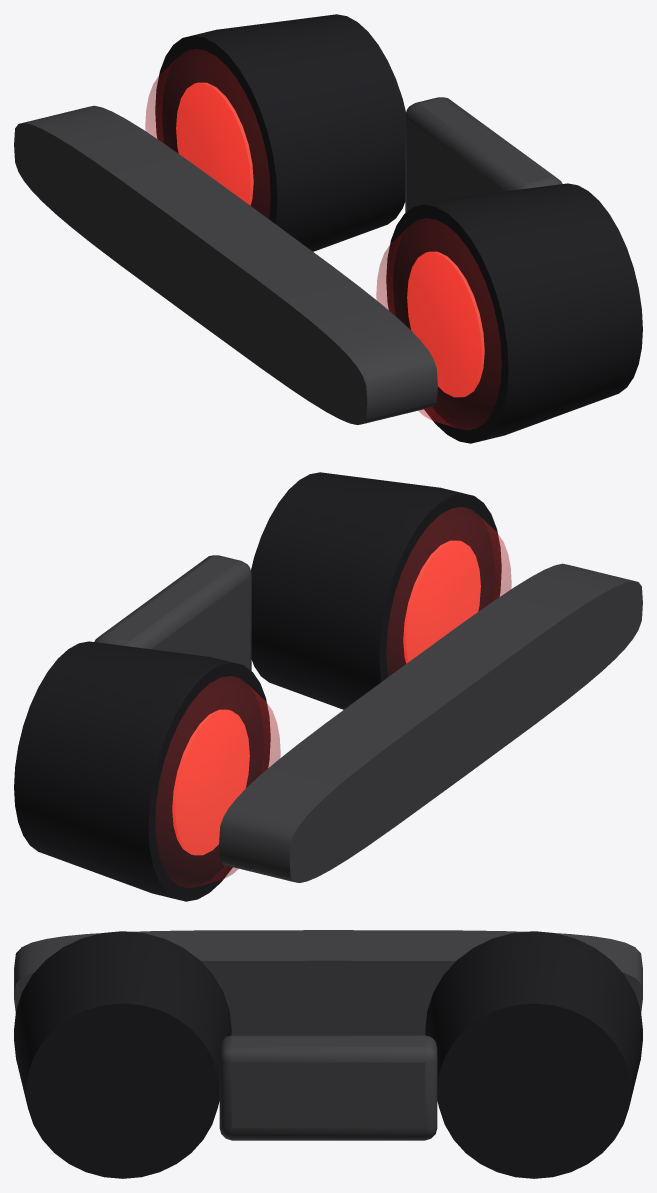
File: twin_dot.glb
3 renders of one model, top to bottom at view 1: azimuth 30°, elevation 25°; view 2: azimuth 150°, elevation 25°; view 3: azimuth 270°, elevation 25°, orthographic. The views are drawn at different scales.
Visible parts, largest first — view 1: tail_light_twin_dot; view 2: tail_light_twin_dot; view 3: tail_light_twin_dot.
Boxes of the visible parts, x1,y1,x2,y2 form: tail_light_twin_dot: (14, 14, 642, 443); tail_light_twin_dot: (14, 472, 642, 901); tail_light_twin_dot: (14, 930, 642, 1178).
Bounding box in the file's own units: 0.054 × 0.036 × 0.104.
